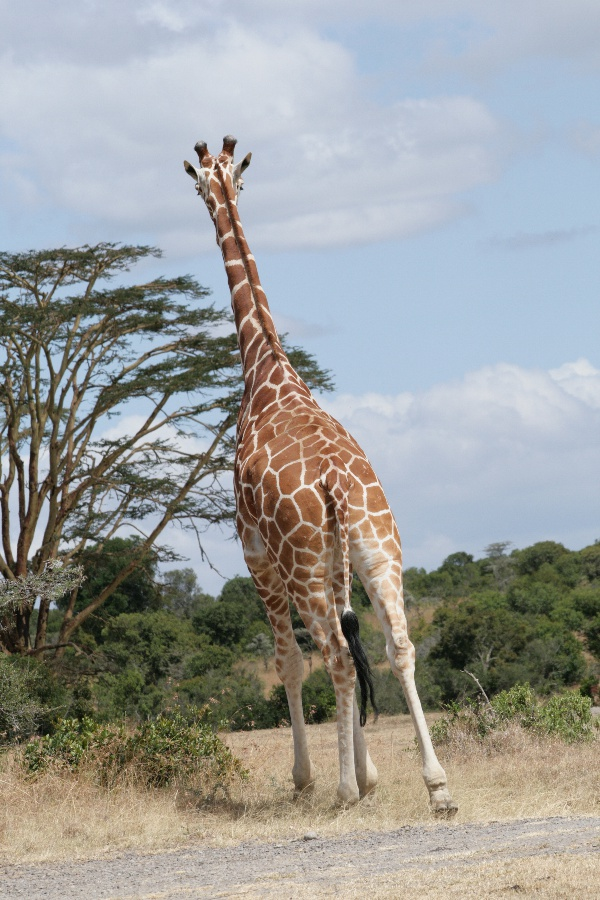giraffe: (171, 125, 471, 829)
